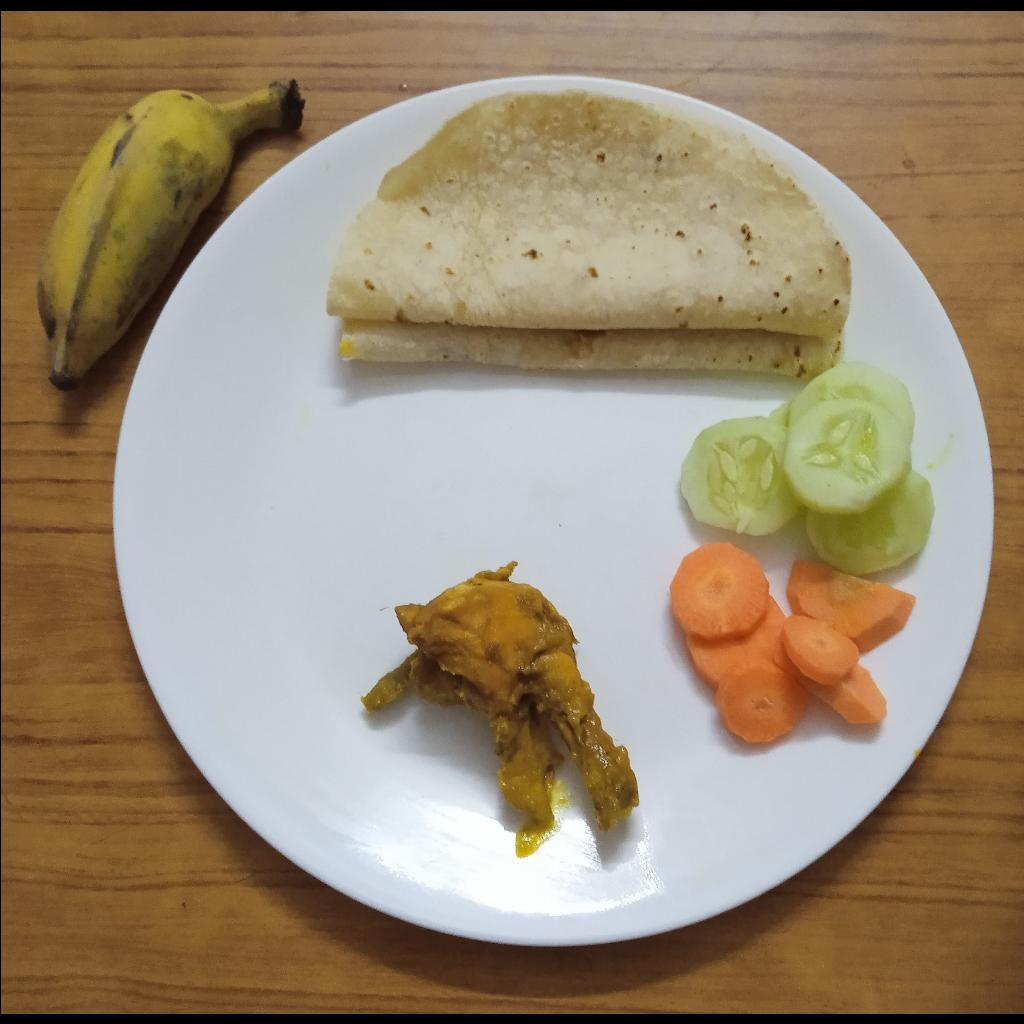banana: (37, 76, 305, 389)
carrot: (669, 541, 917, 740)
chicken: (362, 560, 637, 831)
cucumber: (681, 358, 935, 575)
ruti: (327, 89, 851, 377)
